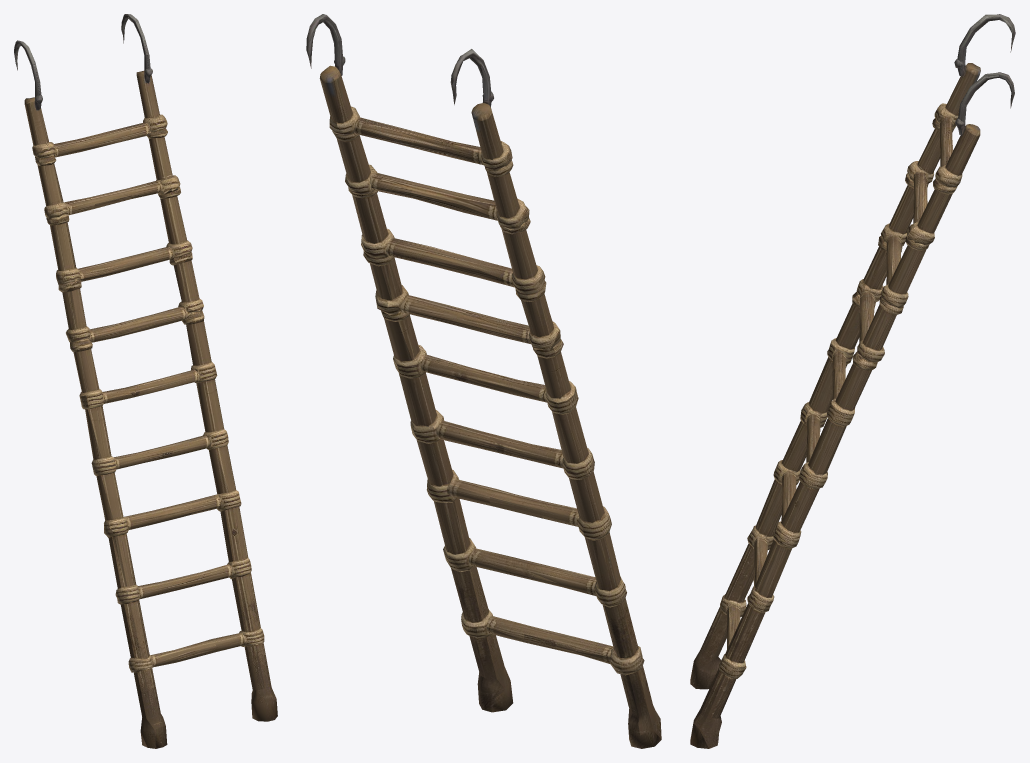
File: siege-ladder.glb
The picture shows the model from 3 angles, left to right: view 1: azimuth 30°, elevation 25°; view 2: azimuth 150°, elevation 25°; view 3: azimuth 270°, elevation 25°; orthographic projection. The views are drawn at different scales.
Visible parts, largest first — view 1: mesh_node; view 2: mesh_node; view 3: mesh_node.
Part boxes in pixels (bbox=[...]): mesh_node: bbox=[14, 14, 277, 748]; mesh_node: bbox=[306, 14, 661, 748]; mesh_node: bbox=[690, 14, 1015, 748].
Size of the model in its own units: 1.44 by 6.2 by 2.73.
1 material, 1 textured.
